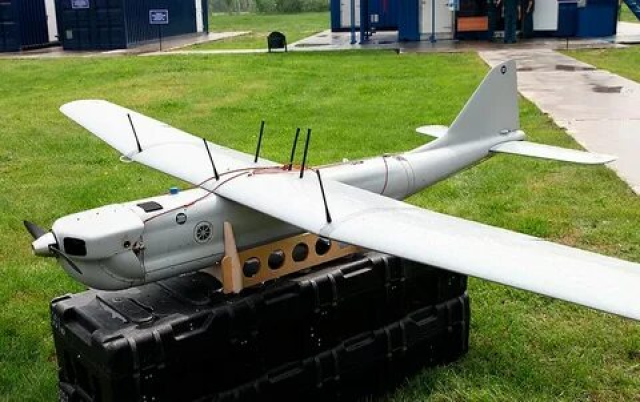military drone: (22, 59, 640, 322)
